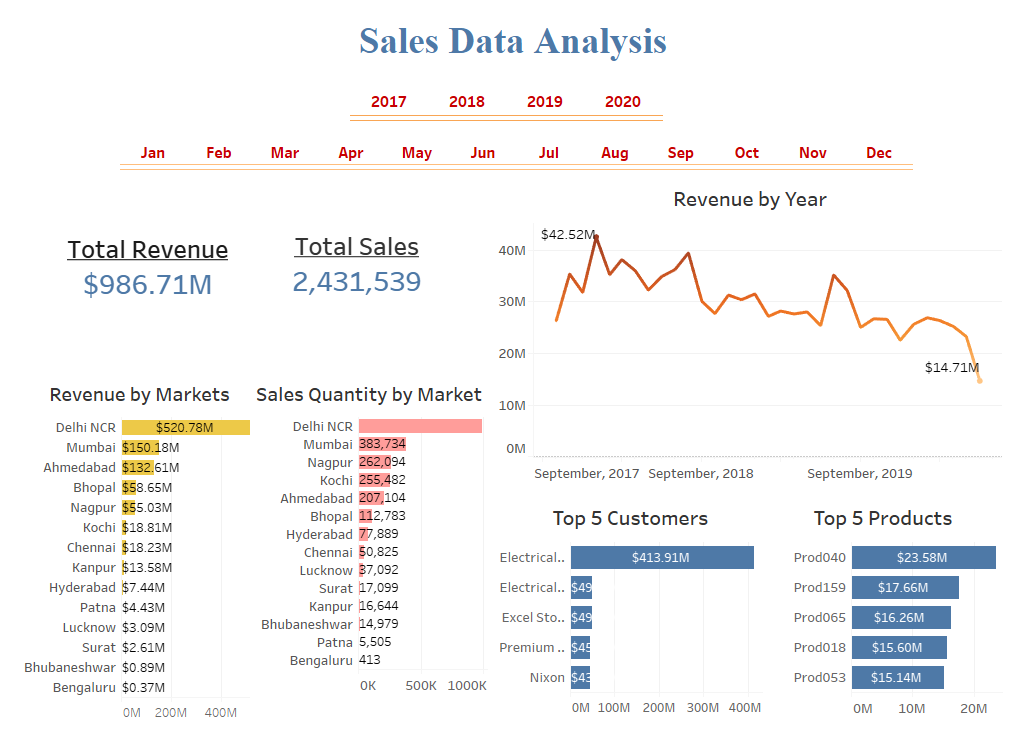

What the dashboard file says about the page in this screenshot:
{"tool":"tableau","page":{"name":"Sales Dashboard","canvas":[1000,800],"ordinal":0},"visuals":[{"type":"text","box":[8,8,984,66]},{"type":"blank","box":[8,74,984,718]},{"type":"worksheet","title":"Year","mark":"Automatic","cols":["cy_date"],"box":[337,87,314,38]},{"type":"worksheet","title":"Month","mark":"Automatic","cols":["cy_date"],"box":[107,140,796,44]},{"type":"worksheet","title":"Revenue by Year","mark":"Automatic","rows":["sales_amount"],"cols":["cy_date"],"box":[485,180,504,307]},{"type":"worksheet","title":"Total Revenue","mark":"Automatic","box":[34,226,213,95]},{"type":"worksheet","title":"Total Quantity","mark":"Automatic","box":[259,228,184,80]},{"type":"worksheet","title":"Revenue by Markets","mark":"Automatic","rows":["markets_name"],"cols":["Normalised_Sales_Amount"],"box":[8,376,237,361]},{"type":"worksheet","title":"Sales Quantity by Market","mark":"Automatic","rows":["markets_name"],"cols":["sales_qty"],"box":[237,376,238,378]},{"type":"worksheet","title":"Top 5 Customers","mark":"Automatic","rows":["custmer_name"],"cols":["Normalised_Sales_Amount"],"box":[485,499,265,254]},{"type":"worksheet","title":"Top 5 Products","mark":"Automatic","rows":["product_code (products)"],"cols":["Normalised_Sales_Amount"],"box":[750,499,240,243]}]}

Visuals, with their boxes on the page's 1000x800 design canvas (x1, y1, x2, y2). These are canvas units, not pixel positions in the 1033x737 screenshot, which may show the page scaled, cropped or inside an application window:
text: <region>8, 8, 992, 74</region>
blank: <region>8, 74, 992, 792</region>
"Year" worksheet: <region>337, 87, 651, 125</region>
"Month" worksheet: <region>107, 140, 903, 184</region>
"Revenue by Year" worksheet: <region>485, 180, 989, 487</region>
"Total Revenue" worksheet: <region>34, 226, 247, 321</region>
"Total Quantity" worksheet: <region>259, 228, 443, 308</region>
"Revenue by Markets" worksheet: <region>8, 376, 245, 737</region>
"Sales Quantity by Market" worksheet: <region>237, 376, 475, 754</region>
"Top 5 Customers" worksheet: <region>485, 499, 750, 753</region>
"Top 5 Products" worksheet: <region>750, 499, 990, 742</region>
